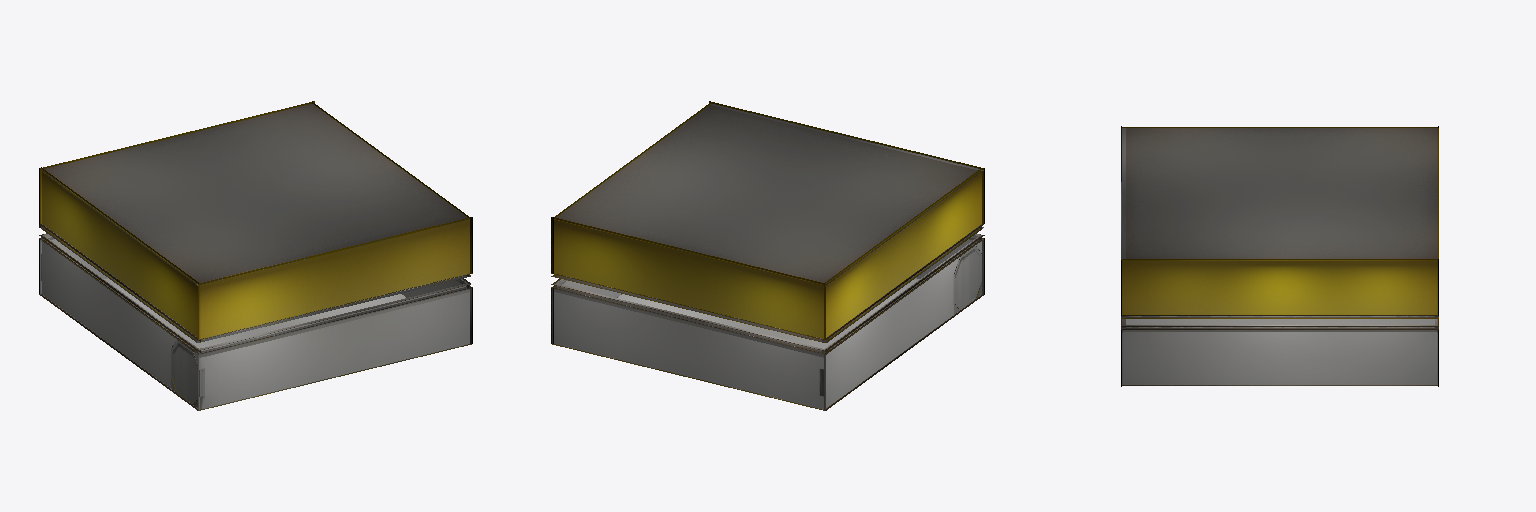
3 renders of one model, left to right at view 1: azimuth 30°, elevation 25°; view 2: azimuth 150°, elevation 25°; view 3: azimuth 270°, elevation 25°, orthographic.
Parts seen in each view (by area): view 1: Box16; view 2: Box16; view 3: Box16.
Part boxes in pixels (bbox=[...]): Box16: bbox=[39, 101, 472, 410]; Box16: bbox=[551, 101, 984, 410]; Box16: bbox=[1121, 126, 1438, 386].
Bounding box in the file's own units: 87.42 × 38.54 × 87.59.
1 materials, 1 textured.